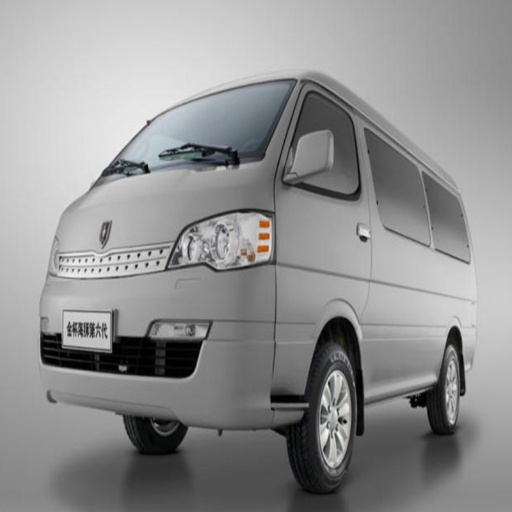front_bumper: (40, 219, 275, 426)
front_glass: (106, 82, 293, 175)
front_left_door: (276, 82, 373, 264)
trunk: (278, 267, 414, 395), (52, 207, 107, 280), (82, 456, 122, 491)
